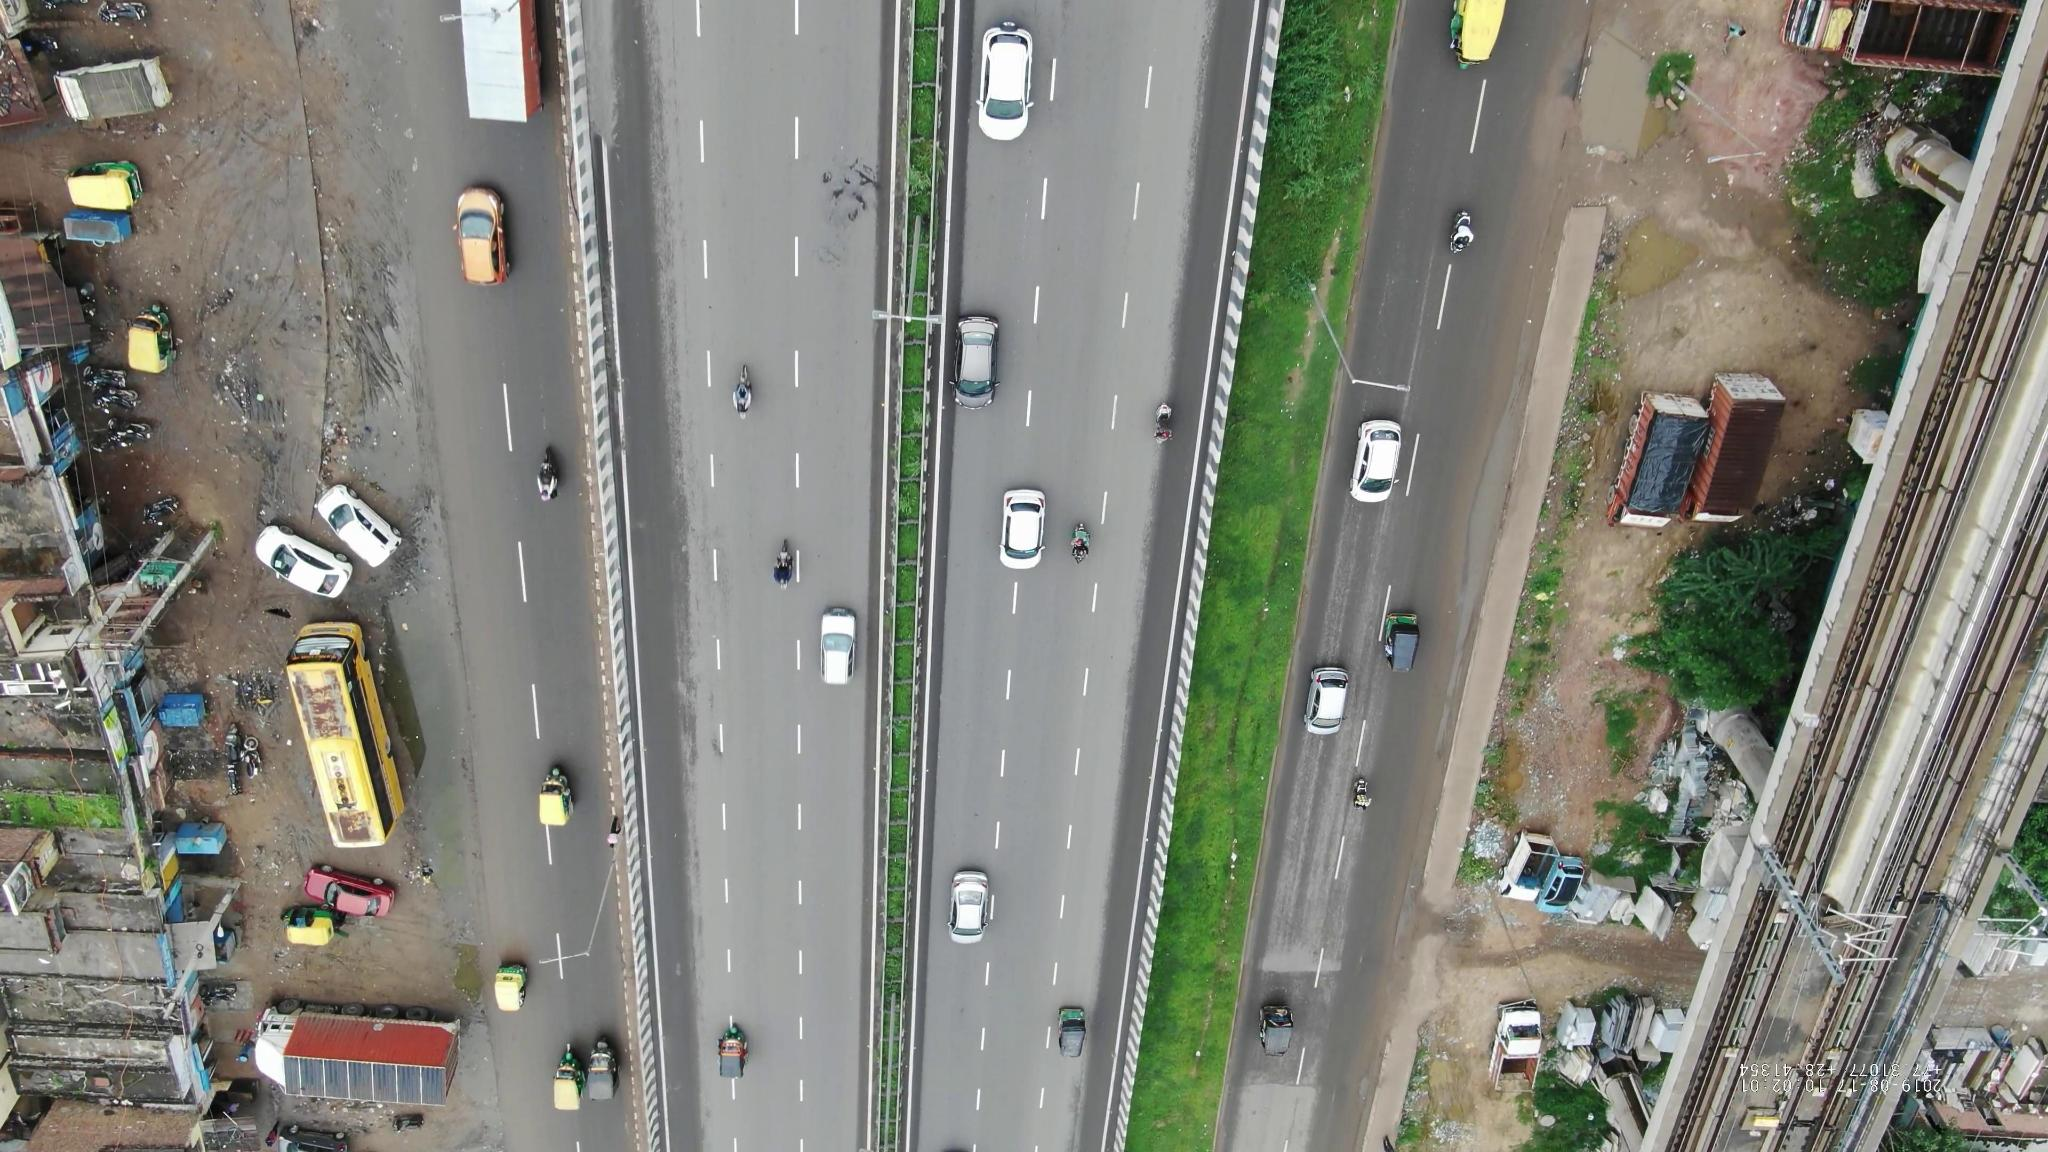Waterlogging: (335, 208, 444, 482), (399, 603, 482, 926), (1461, 388, 1518, 596), (452, 937, 492, 1006)
